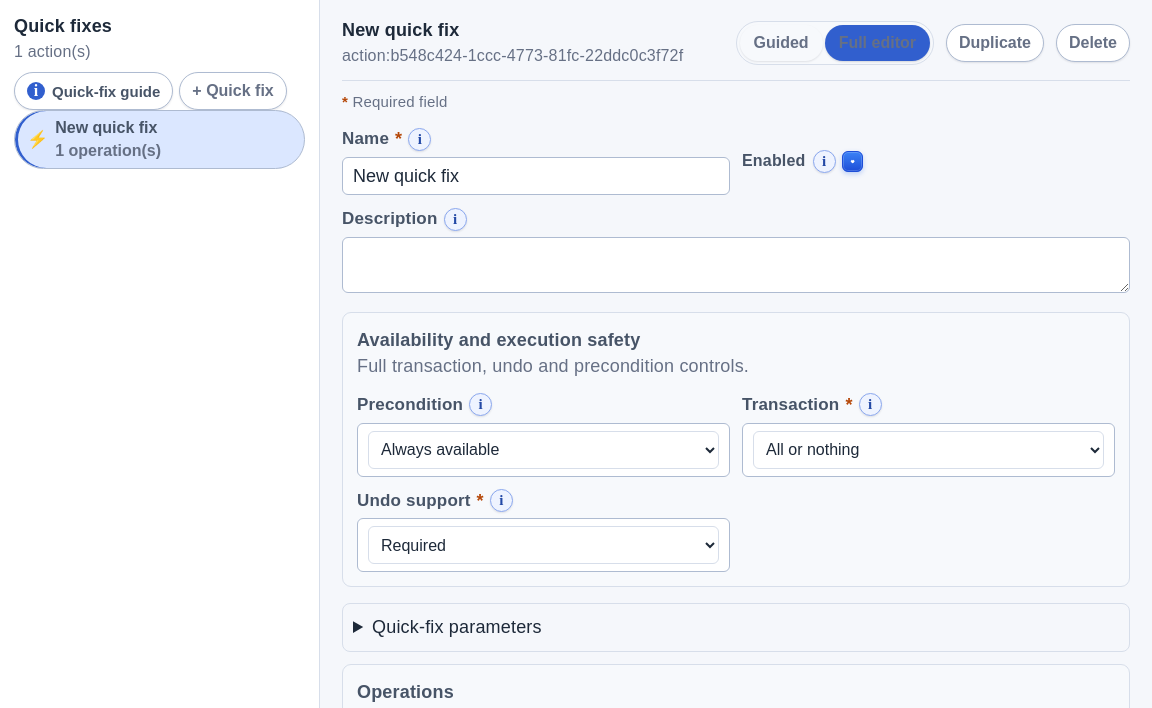
quick-fix form guidance › focuses the quick-fix name when its information button is used
The width and height of the screenshot is (1152, 708).
Click the button named "Information about Name" at (420, 139), box [408,128,431,150]
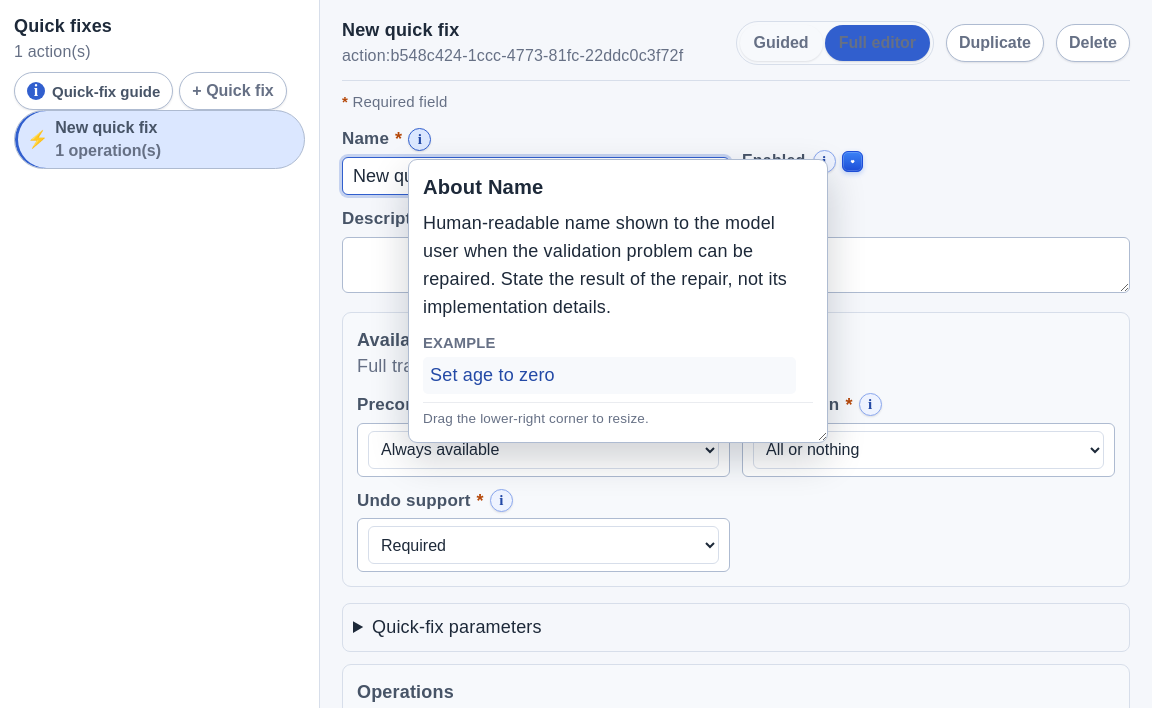
Expected: the tooltip shows "Human-readable name", [423,213,787,316]
